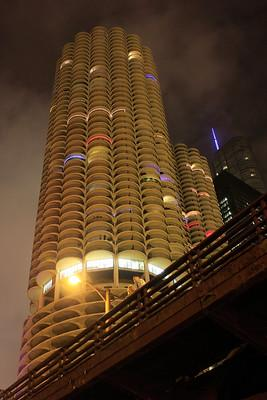building: (17, 22, 194, 368)
